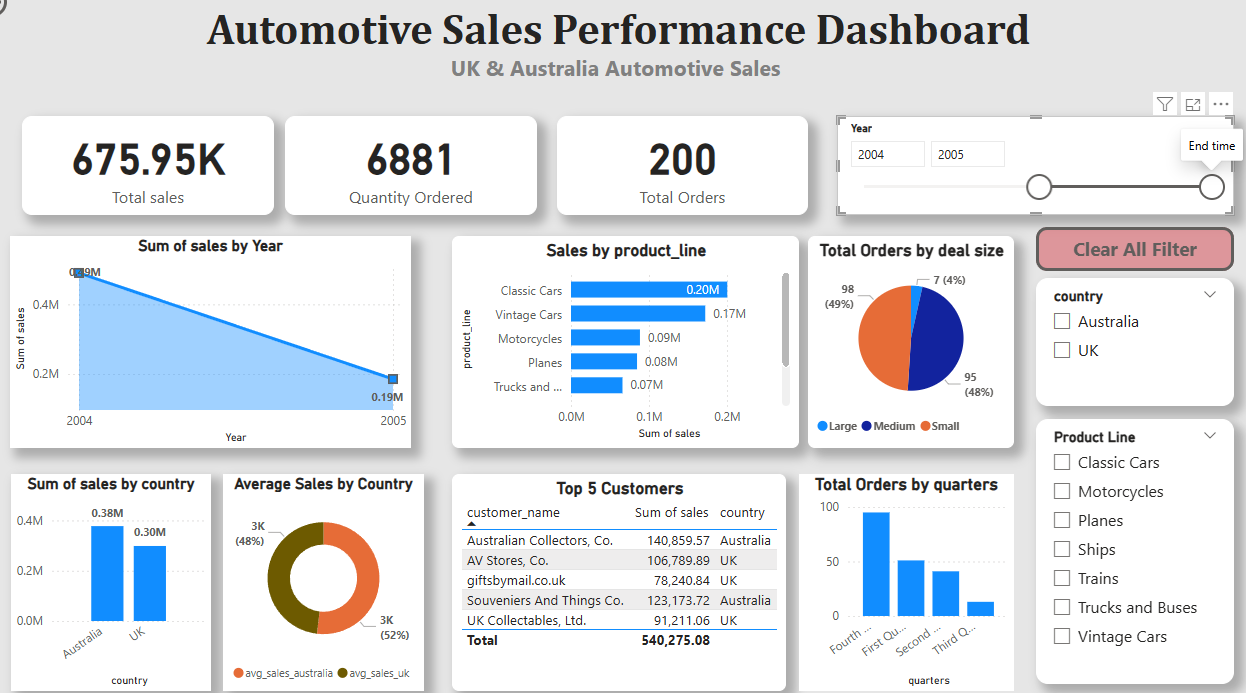

The page's visual inventory and layout, read from the dashboard file:
{"tool":"powerbi","page":{"name":"Dashboard","canvas":[1280,720],"ordinal":0},"visuals":[{"type":"textbox","box":[117,16,1059,99],"z":0},{"type":"card","fields":{"Values":["Sum(Working sheet.sales)"]},"box":[50,134,252,99],"z":1000},{"type":"card","fields":{"Values":["Sum(Working sheet.quantity_ordered)"]},"box":[313,134,252,99],"z":2000},{"type":"card","fields":{"Values":["Working sheet.Total Orders"]},"box":[585,134,251,99],"z":3000},{"type":"lineChart","fields":{"Y":["Sum(Working sheet.sales)"],"Category":["Working sheet.order_date.Variation.Date Hierarchy.Year"]},"box":[38,254,401,212],"z":4000},{"type":"barChart","title":"Sales by product_line","fields":{"Y":["Sum(Working sheet.sales)"],"Category":["Working sheet.product_line"]},"box":[480,254,347,212],"z":5000},{"type":"clusteredColumnChart","fields":{"Y":["Sum(Working sheet.sales)"],"Category":["Working sheet.country"]},"box":[39,492,200,217],"z":6000},{"type":"tableEx","title":"Top 5 Customers","fields":{"Values":["Working sheet.customer_name","Sum(Working sheet.sales)","Working sheet.country"]},"box":[480,492,334,217],"z":7000},{"type":"columnChart","fields":{"Category":["Working sheet.quarters"],"Y":["Working sheet.Total Orders"]},"box":[827,492,215,217],"z":8000},{"type":"slicer","fields":{"Values":["Working sheet.order_date.Variation.Date Hierarchy.Year"]},"box":[865,134,397,99],"z":9000},{"type":"slicer","fields":{"Values":["Working sheet.country"]},"box":[1064,296,198,128],"z":10000},{"type":"slicer","fields":{"Values":["Working sheet.product_line"]},"box":[1064,437,198,265],"z":11000},{"type":"actionButton","box":[1064,245,198,44],"z":12000},{"type":"pieChart","title":"Total Orders by deal size","fields":{"Category":["Working sheet.deal_size"],"Y":["Working sheet.Total Orders"]},"box":[836,254,206,212],"z":13000},{"type":"donutChart","title":"Average Sales by Country","fields":{"Y":["Working sheet.avg_sales_australia","Working sheet.avg_sales_uk"]},"box":[251,492,201,217],"z":14000},{"type":"actionButton","box":[0,0,100,40],"z":14001}]}

Visuals, with their boxes in screenshot pixels (x1, y1, x2, y2), scaled from the page's 1280x720 canvas onto the 1246x693 screenshot:
textbox: [114,15,1145,111]
card - Sum(Working sheet.sales): [49,129,294,224]
card - Sum(Working sheet.quantity_ordered): [305,129,550,224]
card - Working sheet.Total Orders: [569,129,814,224]
lineChart - Sum(Working sheet.sales) x Working sheet.order_date.Variation.Date Hierarchy.Year: [37,244,427,449]
"Sales by product_line" barChart: [467,244,805,449]
clusteredColumnChart - Sum(Working sheet.sales) x Working sheet.country: [38,474,233,682]
"Top 5 Customers" tableEx: [467,474,792,682]
columnChart - Working sheet.quarters x Working sheet.Total Orders: [805,474,1014,682]
slicer - Working sheet.order_date.Variation.Date Hierarchy.Year: [842,129,1228,224]
slicer - Working sheet.country: [1036,285,1228,408]
slicer - Working sheet.product_line: [1036,421,1228,676]
actionButton: [1036,236,1228,278]
"Total Orders by deal size" pieChart: [814,244,1014,449]
"Average Sales by Country" donutChart: [244,474,440,682]
actionButton: [0,0,97,38]
